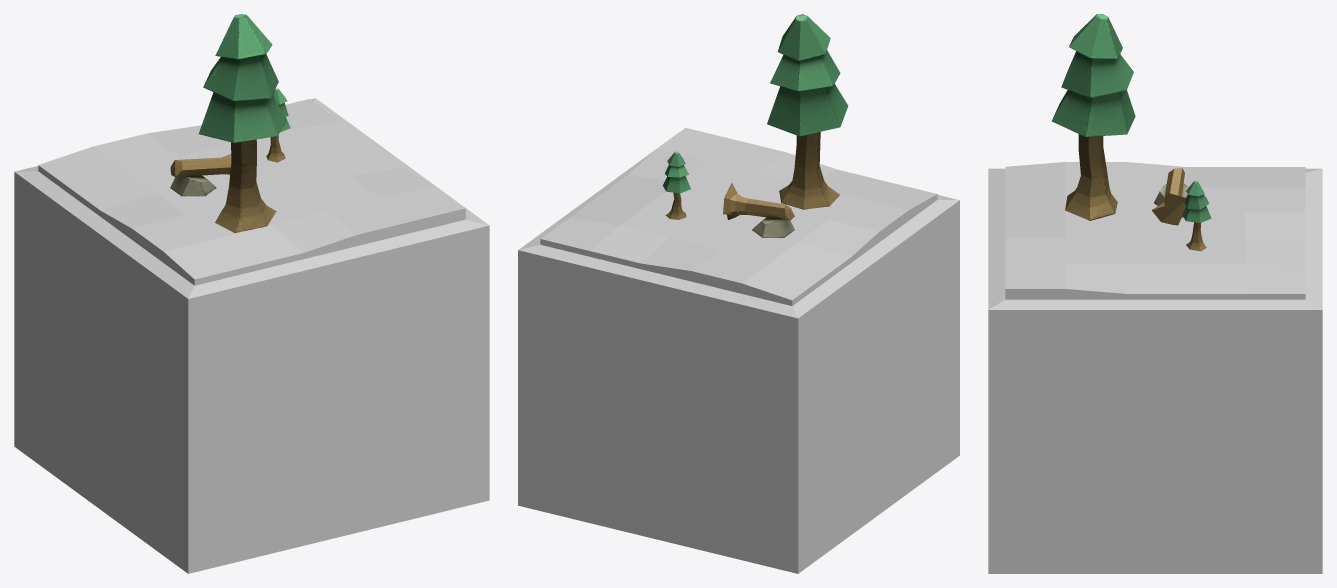
Rendered from tile_empty_wood.fbx.
The picture shows the model from 3 angles, left to right: view 1: azimuth 30°, elevation 25°; view 2: azimuth 150°, elevation 25°; view 3: azimuth 270°, elevation 25°; orthographic projection. The views are drawn at different scales.
Parts seen in each view (by area): view 1: Tile, Ground, Stone; view 2: Tile, Ground, Stone; view 3: Tile, Ground, Stone.
Part boxes in pixels (x1,y1,x2,y2): Tile: (14, 98, 489, 573); Ground: (38, 99, 465, 285); Stone: (170, 14, 290, 232); Tile: (518, 132, 959, 573); Ground: (540, 128, 937, 305); Stone: (663, 14, 848, 237); Tile: (988, 168, 1322, 573); Ground: (1005, 162, 1305, 299); Stone: (1052, 14, 1211, 251).
Bounding box in the file's own units: 0.04 × 0.062 × 0.04.
